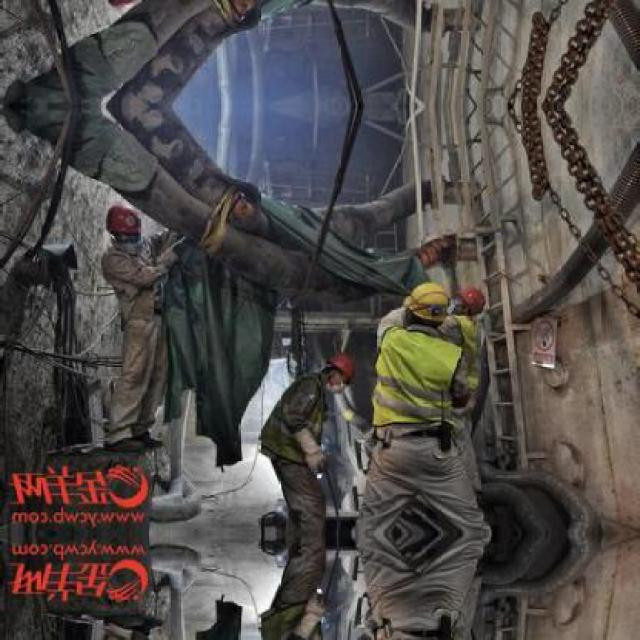Reflective-Jacket: (360, 324, 488, 446), (97, 238, 166, 326)
Safety-Helmet: (396, 278, 456, 326), (96, 199, 146, 241), (449, 280, 494, 320), (317, 348, 360, 388)
